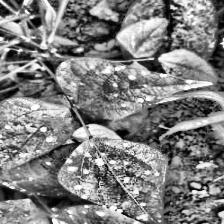Bean Rust: (62, 136, 162, 218), (48, 55, 193, 109), (0, 95, 67, 172), (51, 199, 215, 224), (0, 139, 66, 198), (0, 196, 53, 224)
